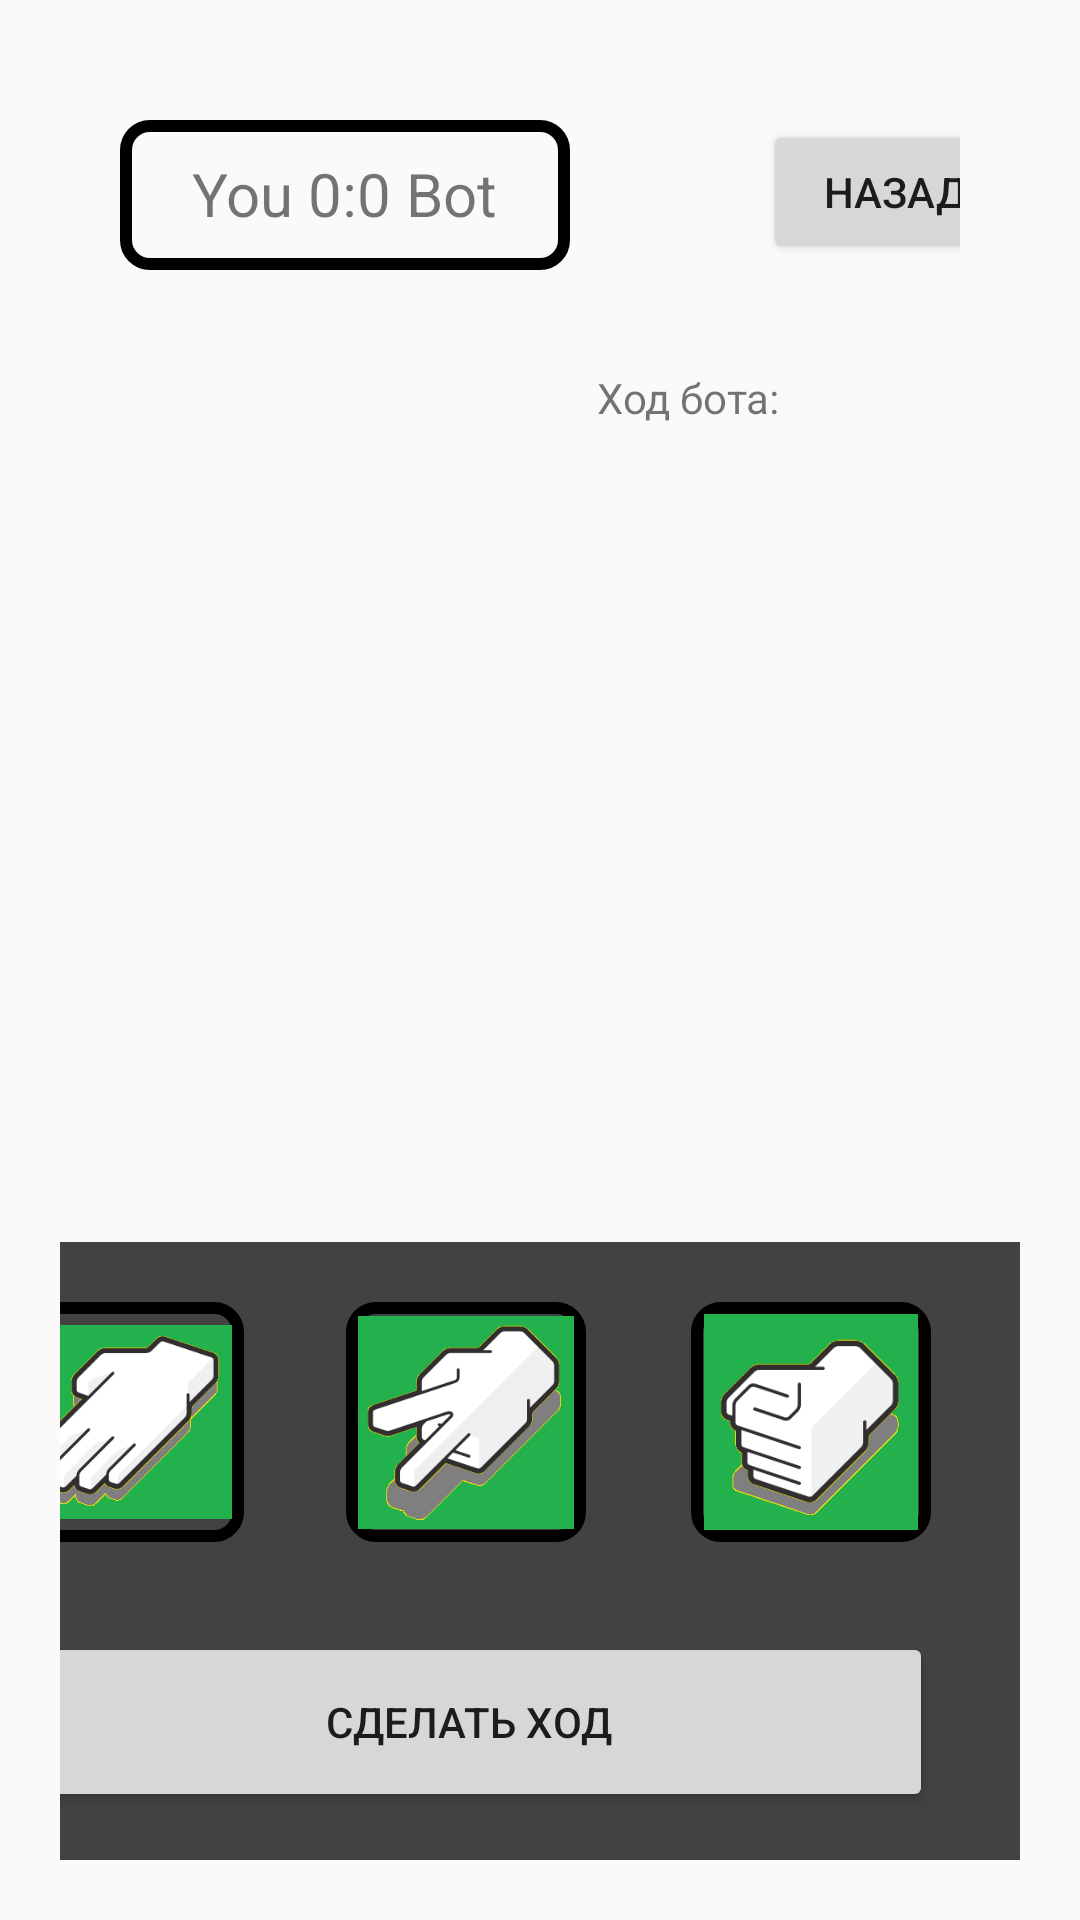

Screen size 1080px×1920px. Icon name, then its center in pixels as (x=x, y=y):
Rock: (x=811, y=1422)
Scissors: (x=466, y=1422)
